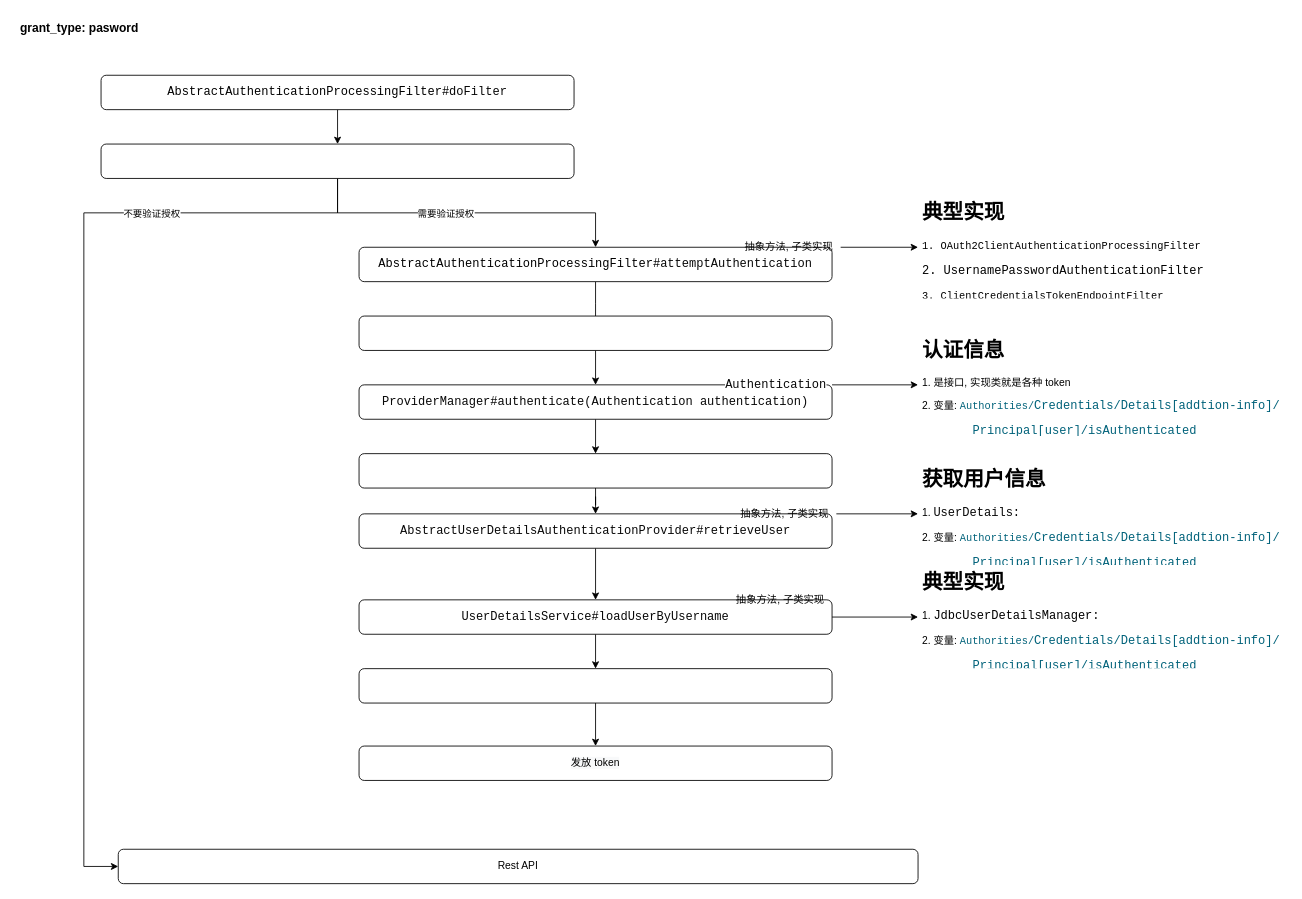
This 1302x899 diagram has some shape labels left out. Each missing label, with the box of its shape:
AbstractAuthenticationProcessingFilter# requiresAuthentication: (100, 143, 574, 178)
AbstractUserDetailsAuthenticationProvider # authenticate: (358, 453, 832, 488)
UsernamePasswordAuthenticationFilter # attemptAuthentication: (358, 315, 832, 350)
从数据库查询之后验证, 登录成功: (358, 668, 832, 703)
